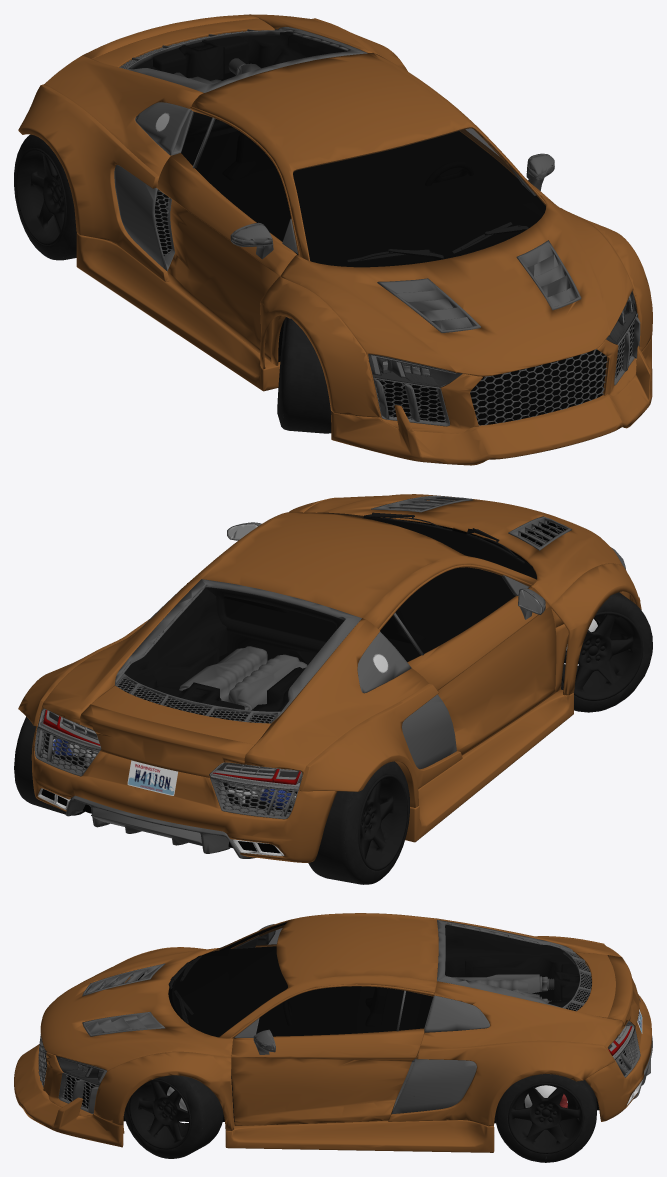
3 views of the same model, one above another, from view 1: azimuth 30°, elevation 25°; view 2: azimuth 150°, elevation 25°; view 3: azimuth 270°, elevation 25° (orthographic). The views are drawn at different scales.
Visible parts, largest first — view 1: body, wheel_RR; view 2: body, wheel_FR, wheel_RR; view 3: body, wheel_RL, wheel_FL.
Part boxes in pixels (x1,y1,x2,y2): body: [14, 14, 652, 465]; wheel_RR: [16, 148, 66, 245]; body: [14, 494, 652, 884]; wheel_FR: [562, 611, 643, 700]; wheel_RR: [358, 774, 407, 870]; body: [14, 913, 652, 1162]; wheel_RL: [508, 1083, 583, 1153]; wheel_FL: [129, 1079, 191, 1149].
Bounding box in the file's own units: 2.31 × 1.24 × 4.43.
6 materials, 4 textured.
